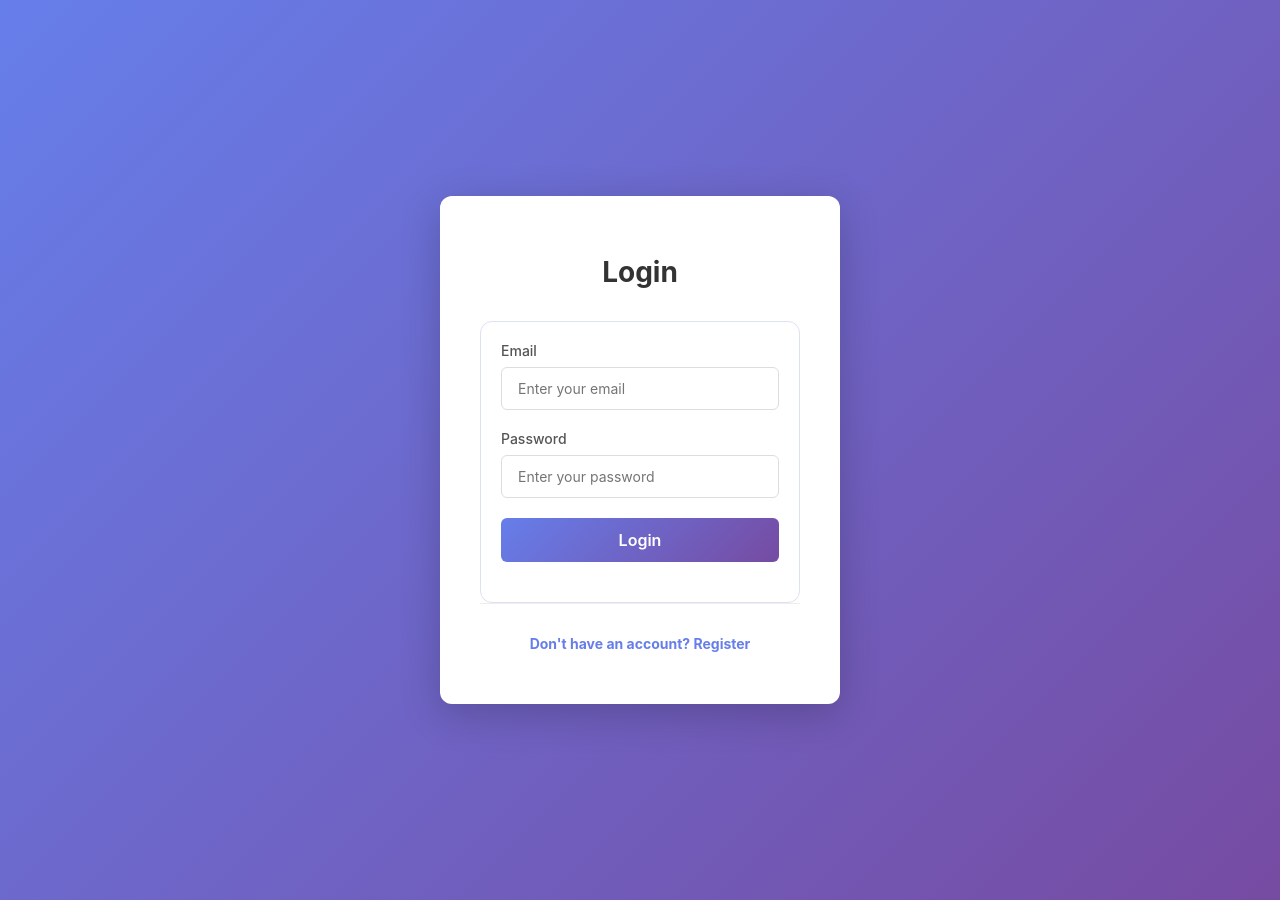
Test: App routing and authentication › logs in and lands on the dashboard
The width and height of the screenshot is (1280, 900).
Step 1. Type "user@example.com" into the field with test id "email-input" → point(640, 389), box [501,367,779,410]
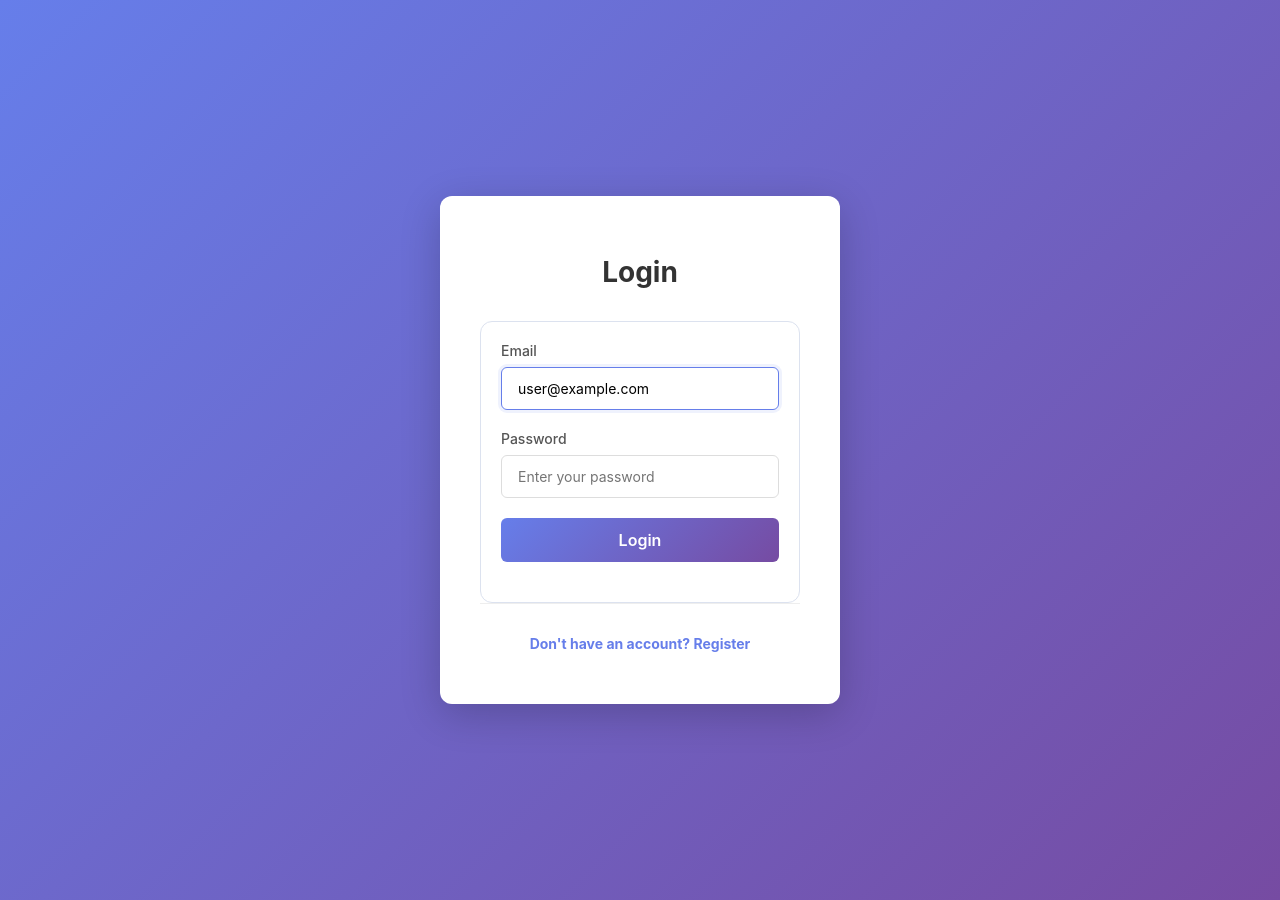
Step 2. Type "Passw0rd!" into the password field with test id "password-input" → point(640, 477), box [501,455,779,498]
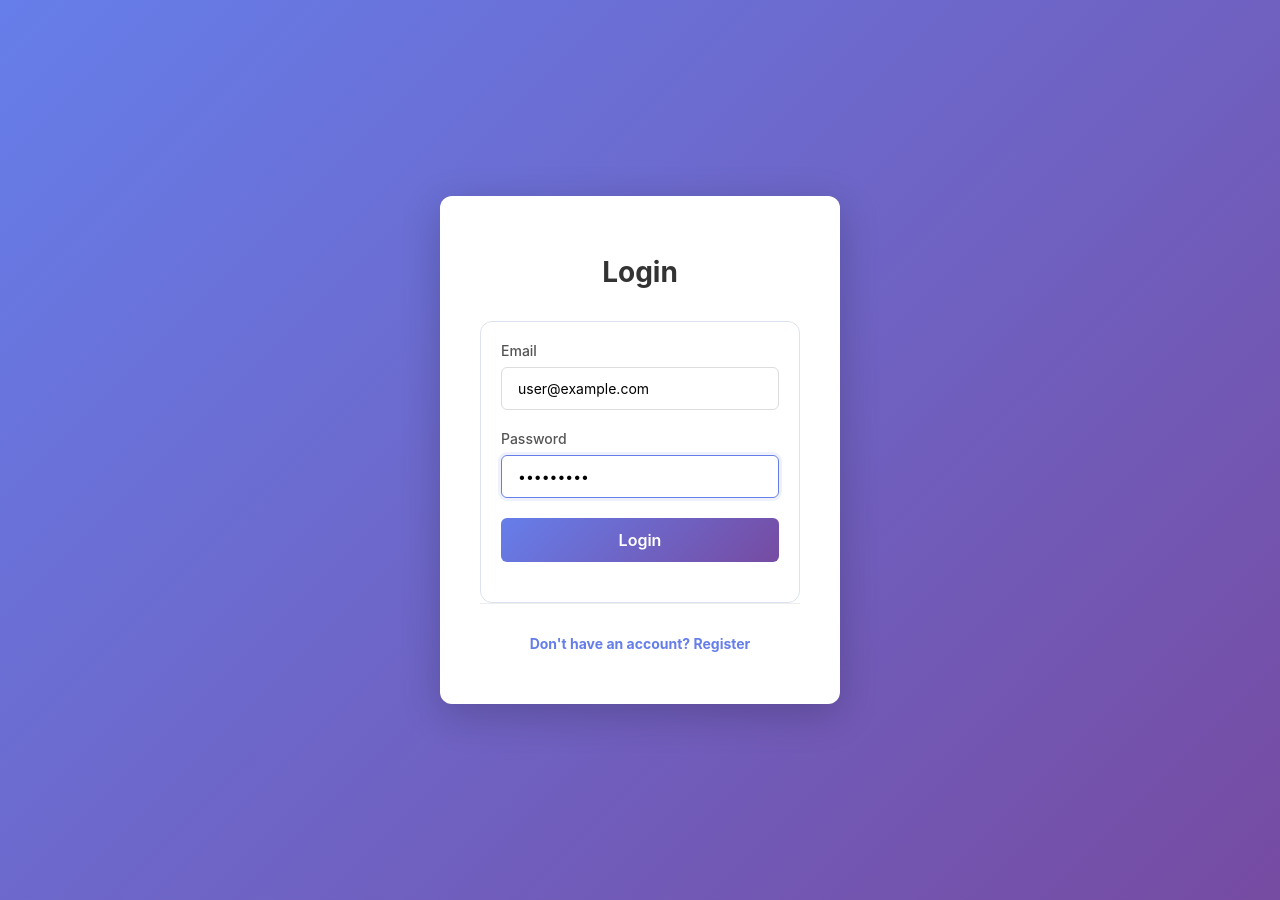
Step 3. Click the button with test id "login-button" → point(640, 540), box [501,518,779,562]
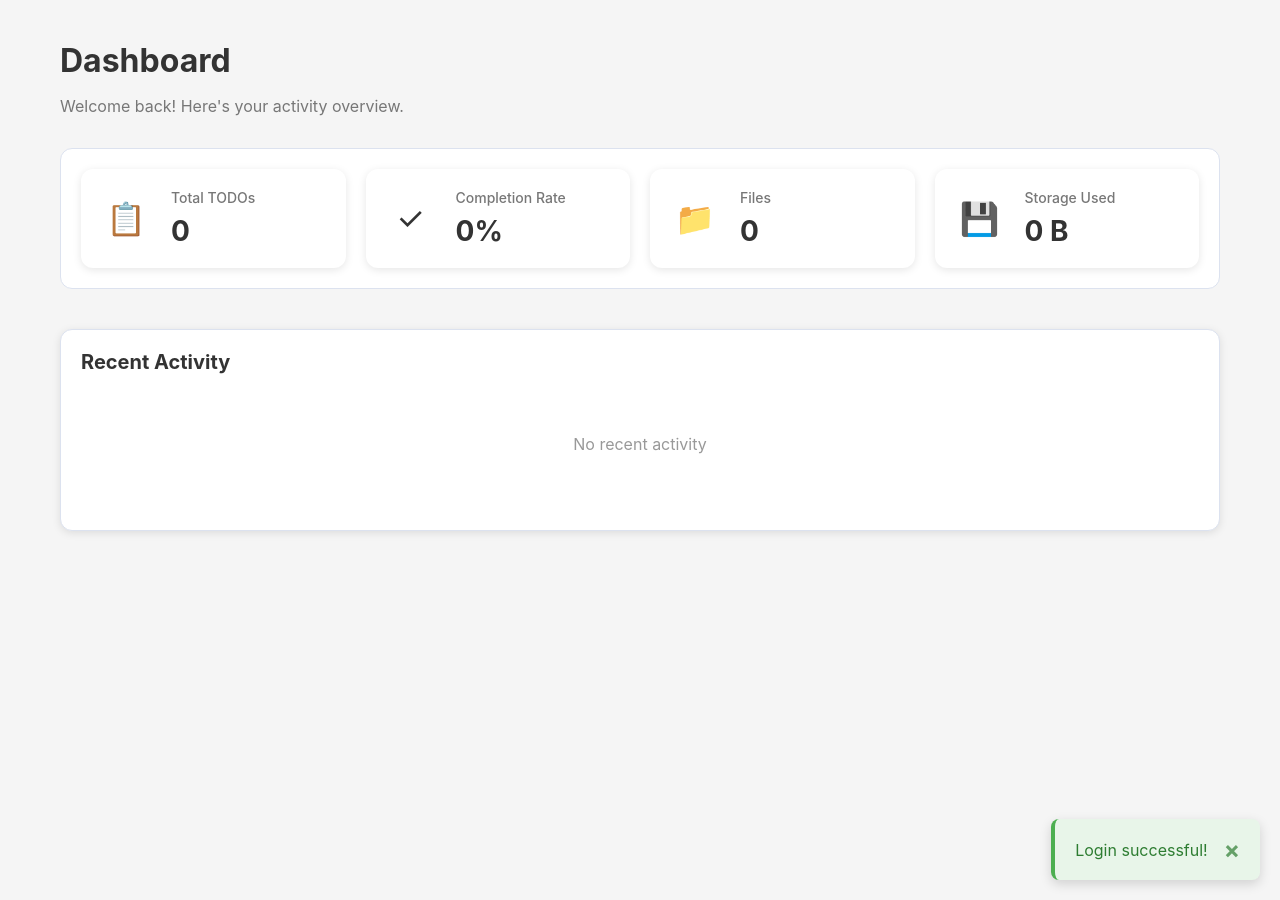
Expected: the element with test id "dashboard-page" is shown, [40,0,1240,551]
Expected: the message with test id "toast" shows "Login successful!", [1075,840,1208,860]
